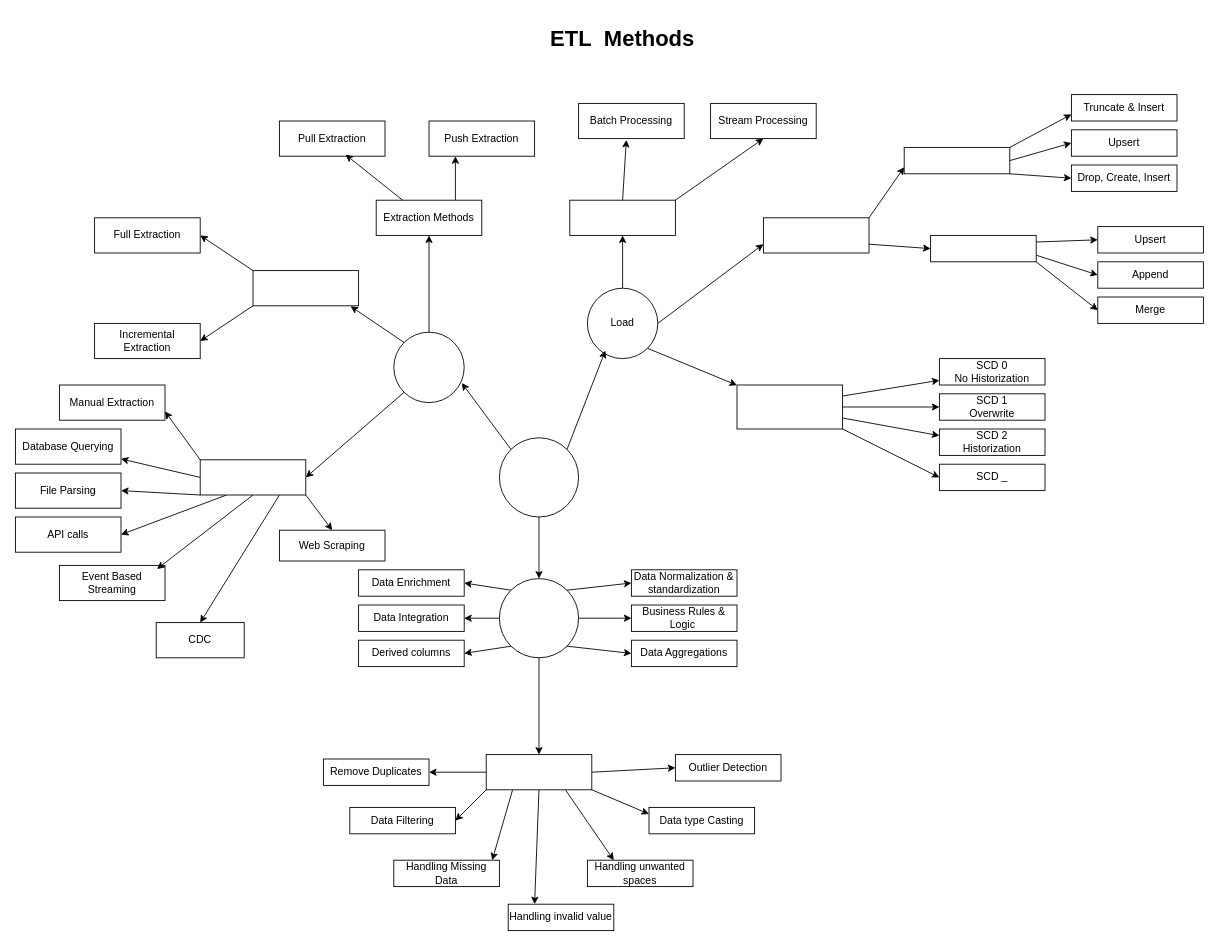
The diagram is 1219 pixels wide and 946 high, and some of its shapes have lost their labels. Each missing label, with the box of its shape:
Data Cleaning: (485, 754, 592, 790)
ETL: (499, 437, 579, 517)
Extract Techniques: (199, 459, 306, 495)
Extract Types: (252, 270, 359, 306)
Extraction: (393, 331, 464, 403)
Full Load: (903, 147, 1010, 174)
Incremental Load: (930, 235, 1036, 262)
Load Methods: (763, 217, 869, 253)
Processing Types: (569, 199, 675, 235)
Slowly changing Dimensions (SCD): (736, 384, 843, 429)
Transformation: (499, 578, 579, 658)
